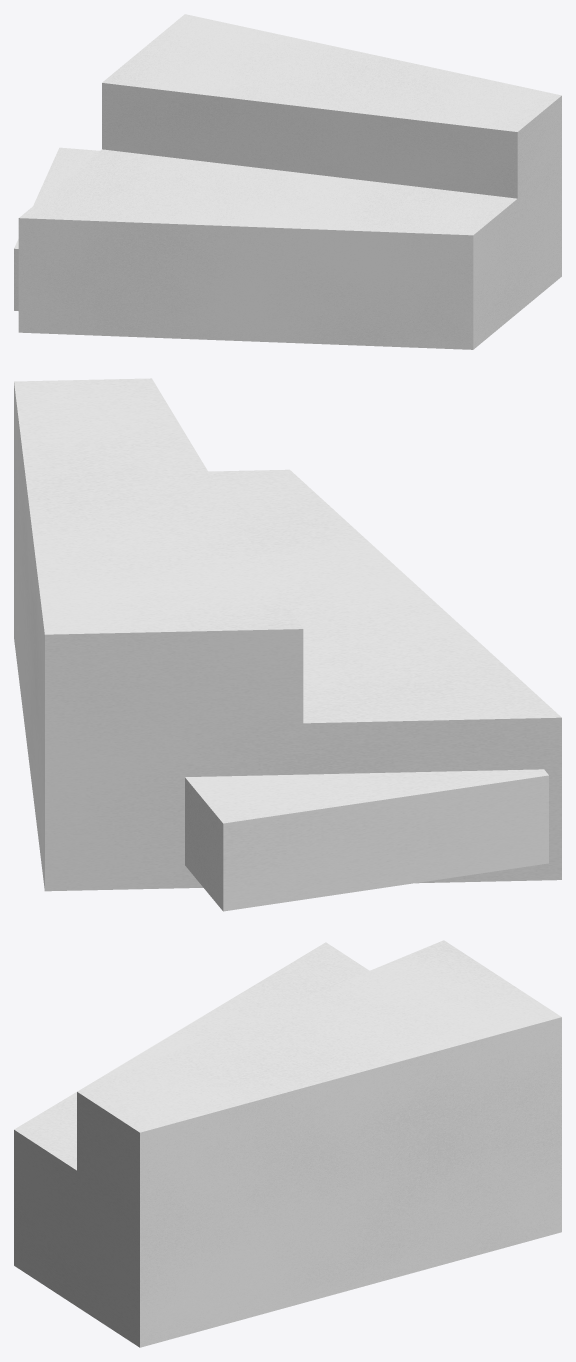
File: MALBA.gltf
3 views of the same model, one above another, from view 1: azimuth 30°, elevation 25°; view 2: azimuth 150°, elevation 25°; view 3: azimuth 270°, elevation 25° (orthographic). The views are drawn at different scales.
Visible parts, largest first — view 1: MALBA; view 2: MALBA; view 3: MALBA.
Boxes of the visible parts, x1,y1,x2,y2 form: MALBA: (14,14,561,349); MALBA: (14,378,561,911); MALBA: (14,940,561,1347).
Size of the model in its own units: 1.42 by 0.5272 by 1.22.
1 material, 1 textured.
